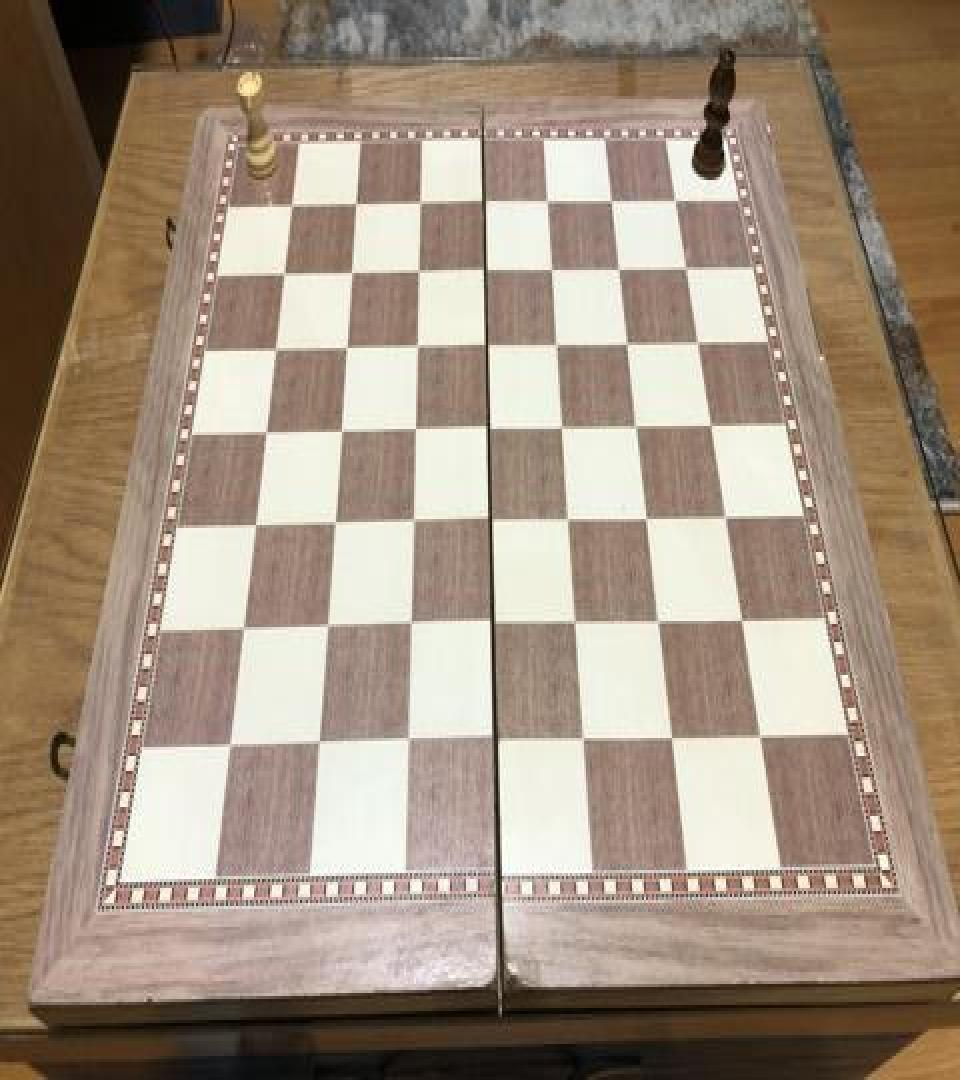xcorner: (733, 601, 757, 638), (316, 610, 340, 647), (663, 718, 687, 755), (308, 727, 332, 764), (668, 183, 692, 219), (603, 183, 627, 219), (539, 184, 563, 220), (474, 184, 498, 220), (409, 186, 433, 222), (344, 186, 368, 222), (678, 250, 702, 286), (611, 252, 635, 288), (543, 252, 567, 288), (476, 254, 500, 290), (407, 255, 431, 291), (339, 255, 363, 291), (270, 256, 294, 292), (690, 326, 714, 362), (619, 327, 643, 363), (406, 330, 430, 366), (334, 332, 358, 368), (262, 332, 286, 368), (703, 408, 727, 444), (628, 410, 652, 446), (554, 411, 578, 447), (329, 414, 353, 450), (253, 416, 277, 452), (717, 500, 741, 536), (639, 501, 663, 537), (560, 502, 584, 538), (481, 504, 505, 540), (402, 506, 426, 542), (322, 507, 346, 543), (242, 508, 266, 544), (650, 603, 674, 639), (567, 604, 591, 640), (484, 608, 508, 644), (400, 609, 424, 645), (231, 612, 255, 648), (750, 716, 774, 752), (575, 720, 599, 756), (486, 723, 510, 759), (397, 724, 421, 760), (218, 729, 242, 765), (278, 188, 302, 223), (548, 329, 572, 364), (477, 329, 501, 364), (479, 413, 503, 448), (404, 413, 428, 448)
